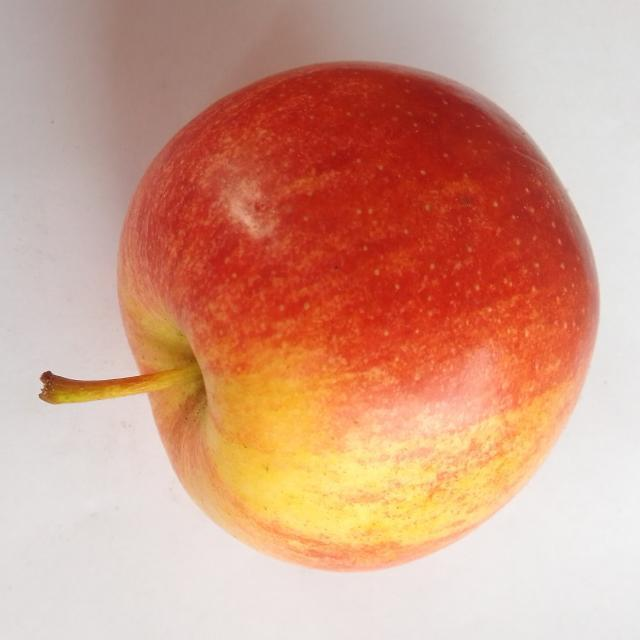Fresh Apple: (103, 58, 600, 572)
